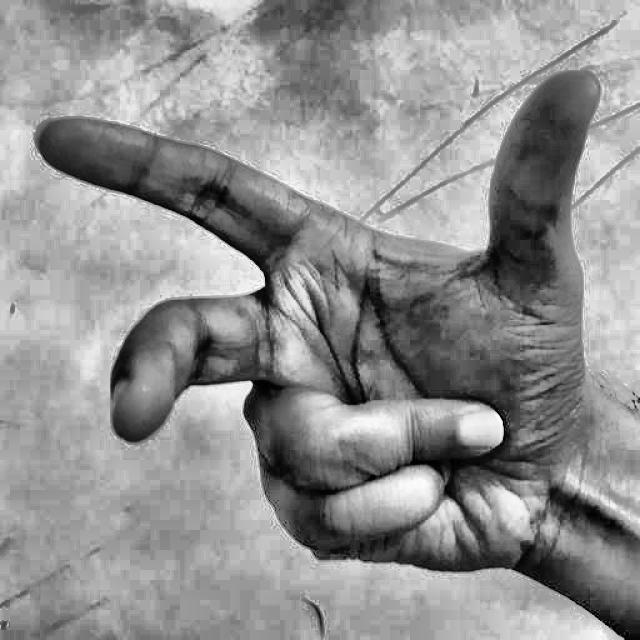Da: (19, 22, 622, 612)
